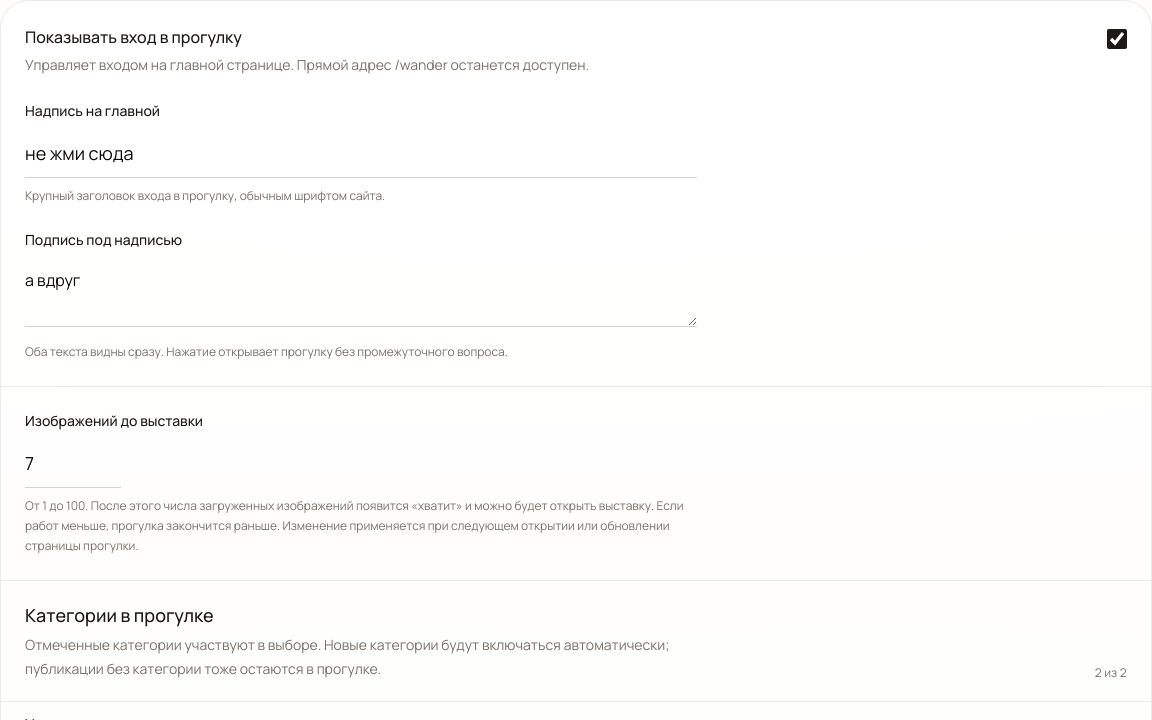
Test: настройки прогулки › не отправляет некорректное количество
Clear the number field labelled "Изображений до выставки" at x=73, y=463, box 25,438 -> 121,488
(page scrolled)
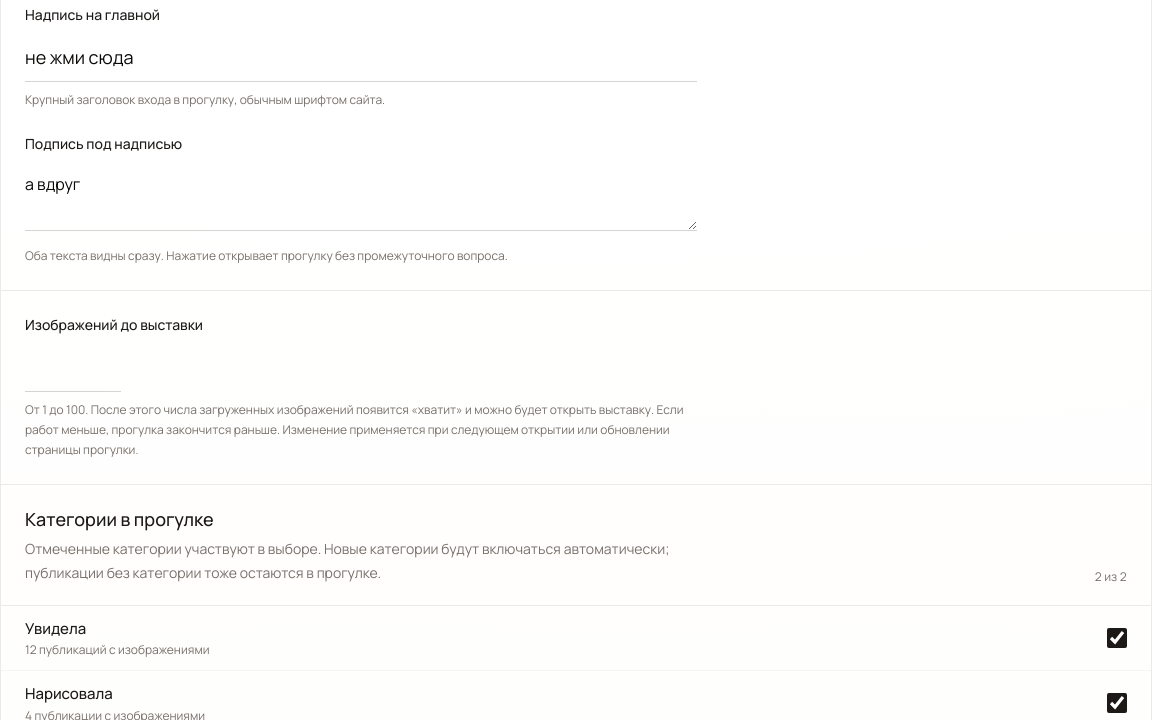
Submit the form
(page scrolled)
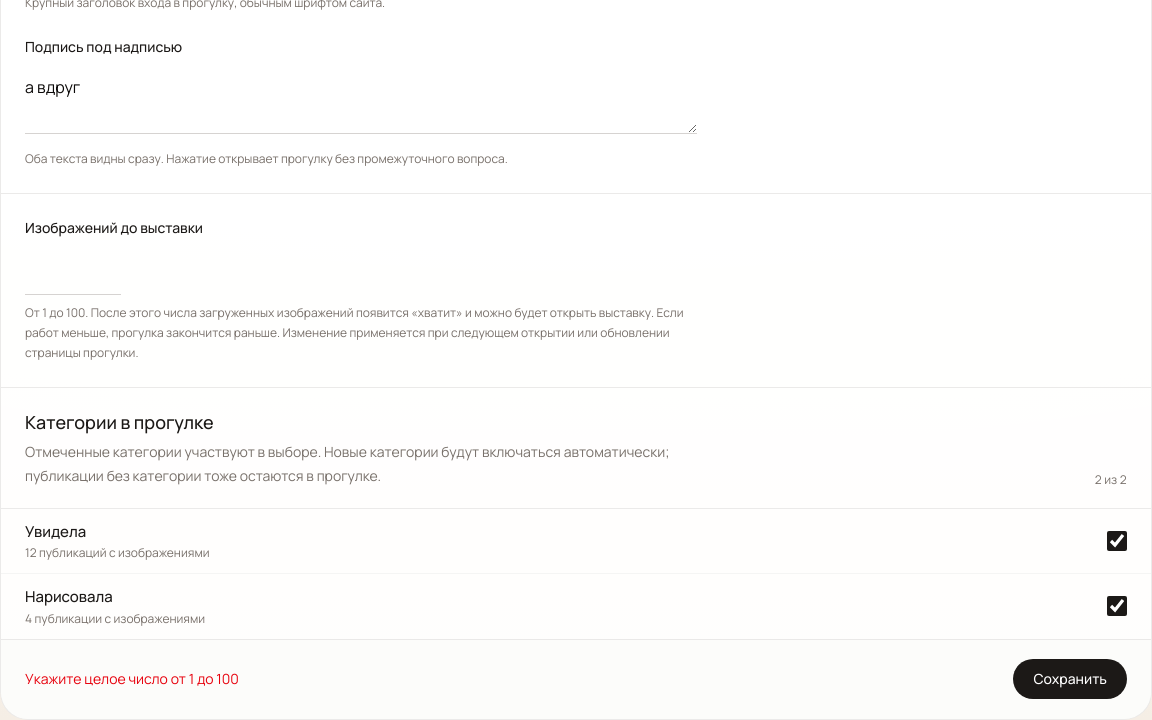
Expected: the message reads "Укажите целое число от 1 до 100", 25,669 -> 239,688
